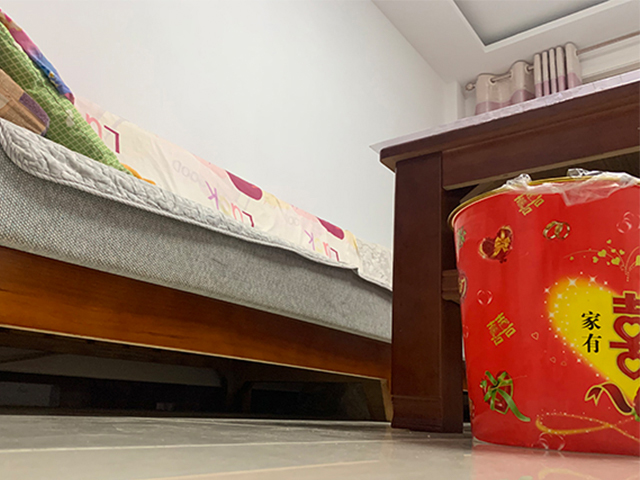sofa: (1, 7, 392, 423)
table: (368, 67, 640, 437)
trashcan: (448, 175, 640, 457)
